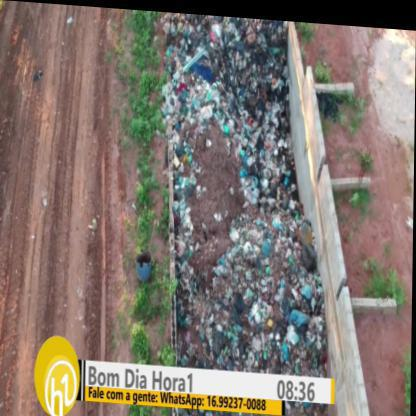lixo: (181, 14, 287, 364)
